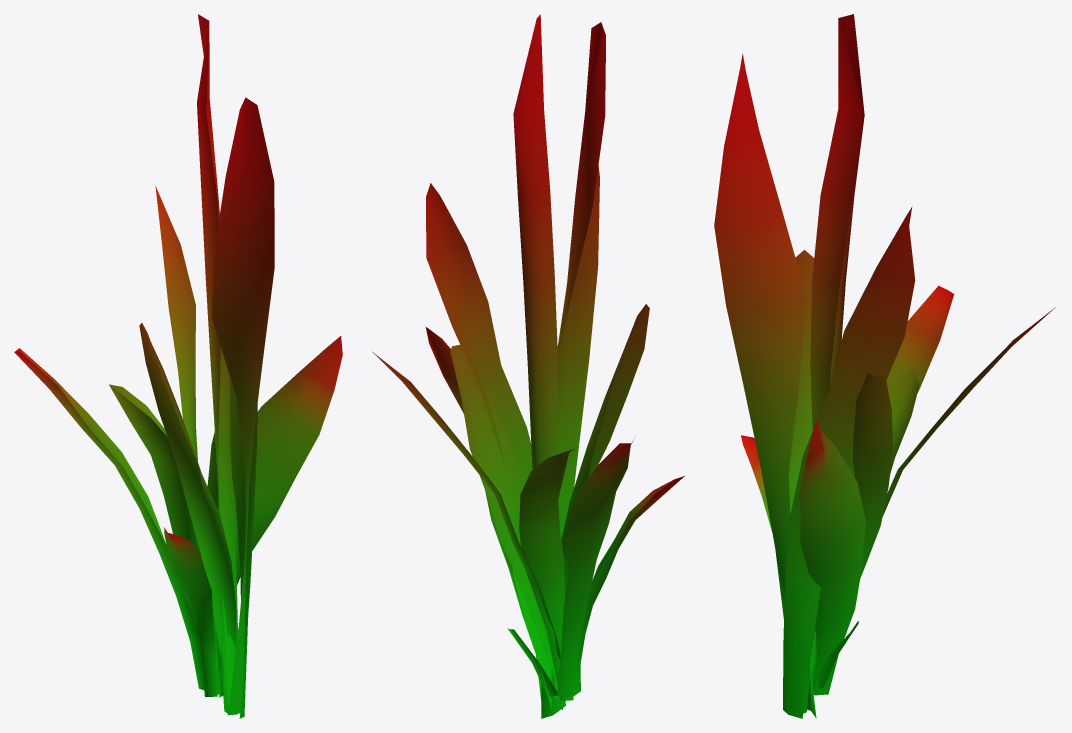
The model's file is Snake Plant_LOD1_Var5_sgtmY.fbx.
The picture shows the model from 3 angles, left to right: view 1: azimuth 30°, elevation 25°; view 2: azimuth 150°, elevation 25°; view 3: azimuth 270°, elevation 25°; orthographic projection. The views are drawn at different scales.
Parts seen in each view (by area): view 1: _96fb_Var5_LOD1; view 2: _96fb_Var5_LOD1; view 3: _96fb_Var5_LOD1.
Part boxes in pixels (<box>): _96fb_Var5_LOD1: <box>14,14,342,718</box>; _96fb_Var5_LOD1: <box>372,14,684,718</box>; _96fb_Var5_LOD1: <box>714,14,1055,718</box>.
Size of the model in its own units: 49.41 by 124 by 55.25.
